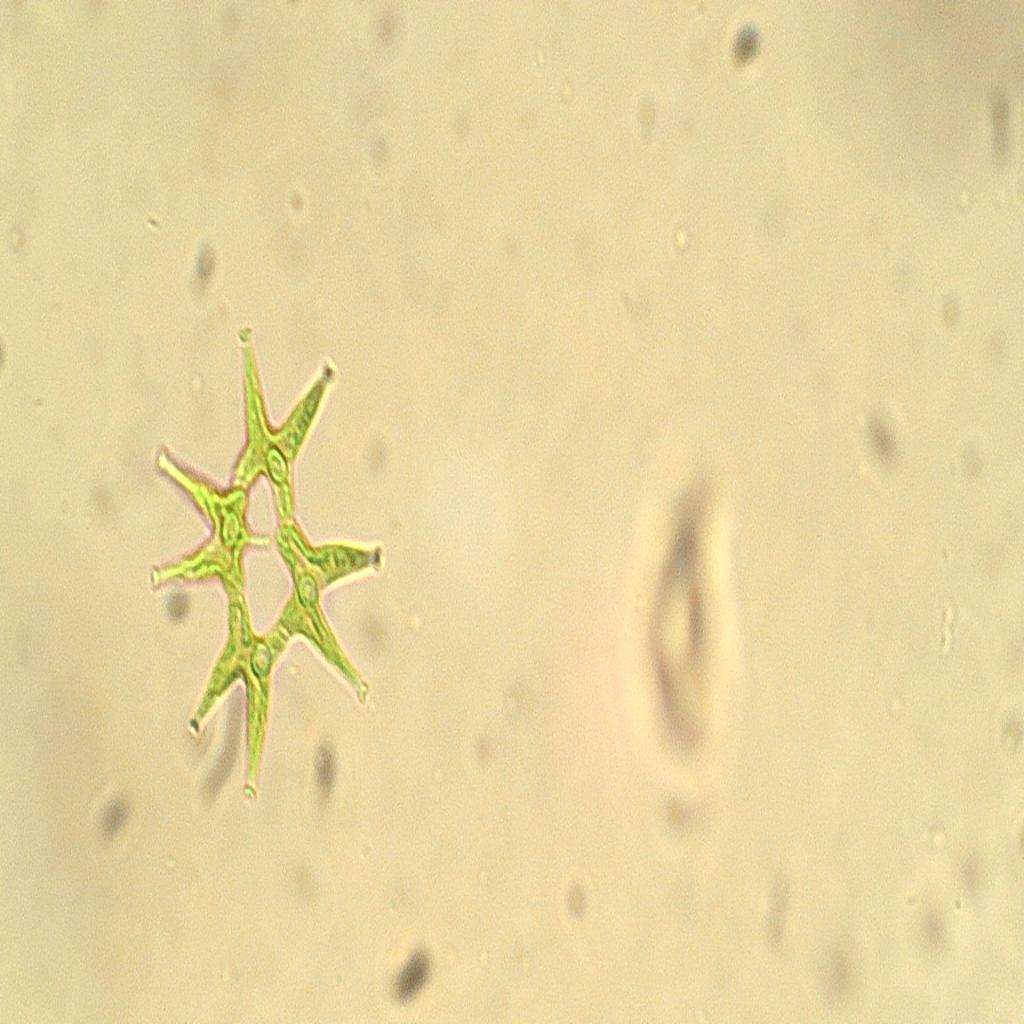Pediastrum_CF: (125, 295, 393, 813)
